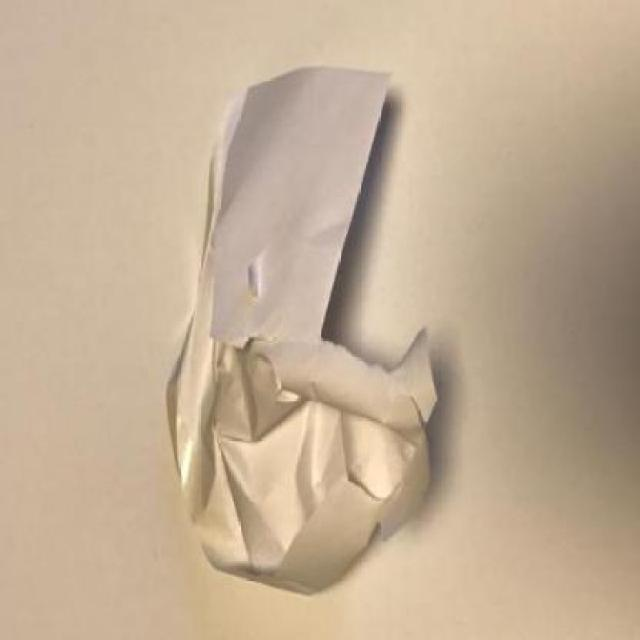PAPER: (163, 70, 434, 598)
